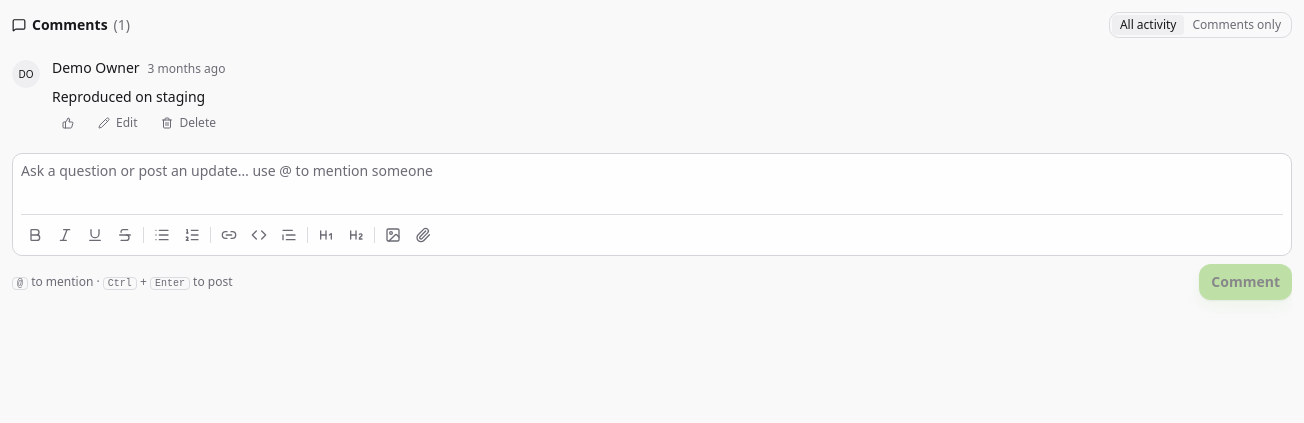
Test: CommentThread › abandons an edit without sending it
The width and height of the screenshot is (1304, 423).
Click the button "Edit".
click(118, 123)  # box x1=88 y1=113 x2=148 y2=133
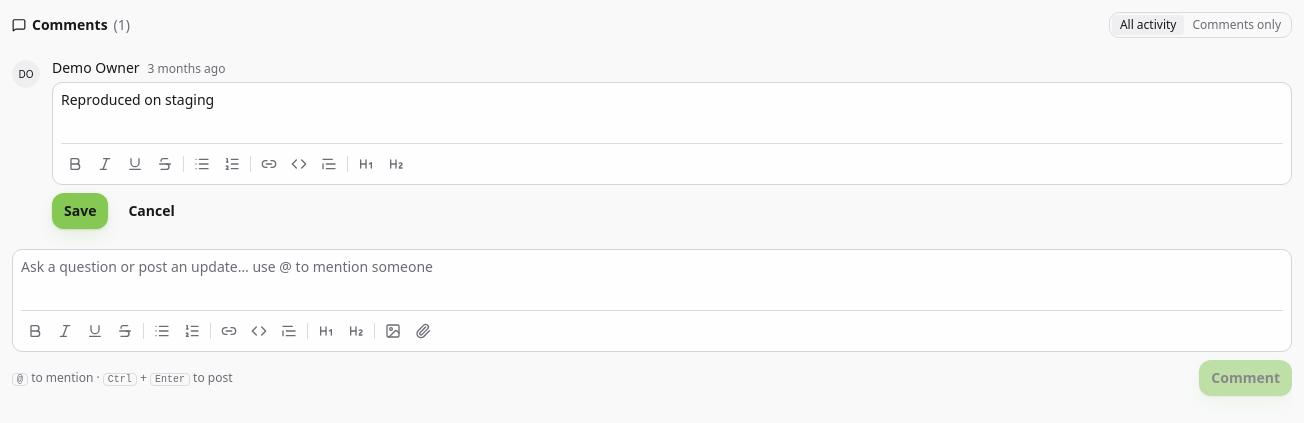
Clear the field named "edit comment" at (138, 100), box x1=61 y1=90 x2=214 y2=109
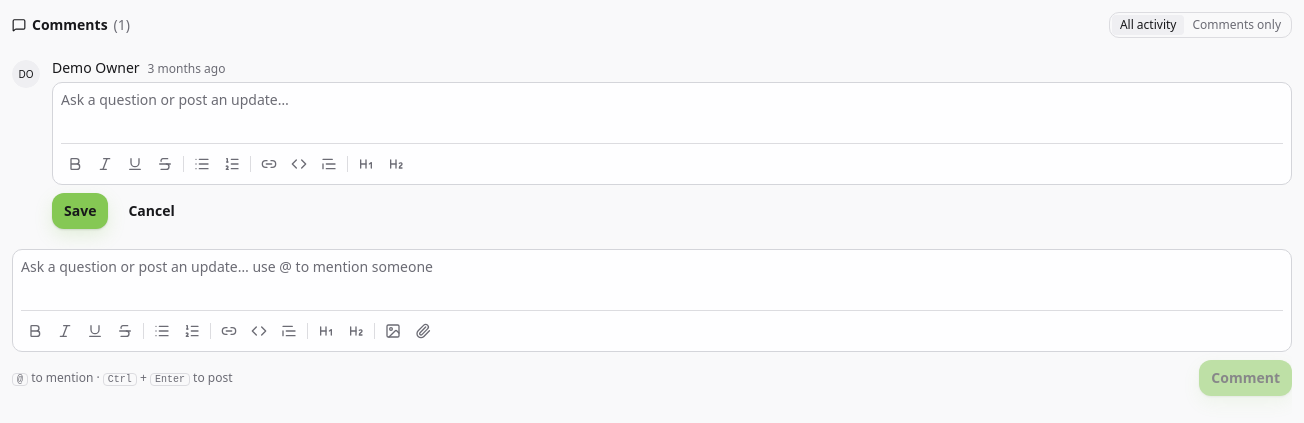
Type "Discard me" into the field named "edit comment".
click(672, 113); type("Discard me")  # box x1=61 y1=89 x2=1283 y2=137
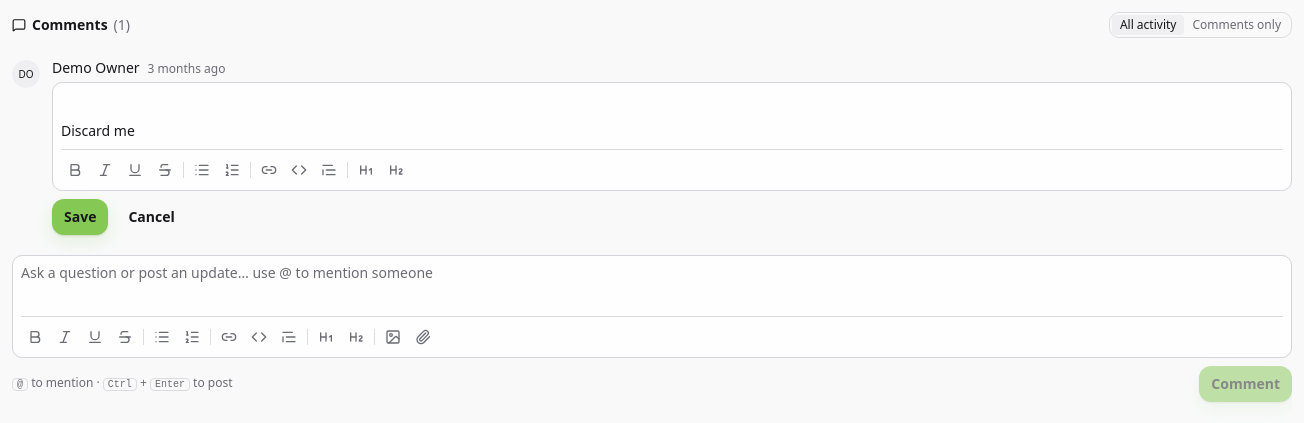
Click the button "Cancel".
click(152, 216)  # box x1=116 y1=198 x2=187 y2=234
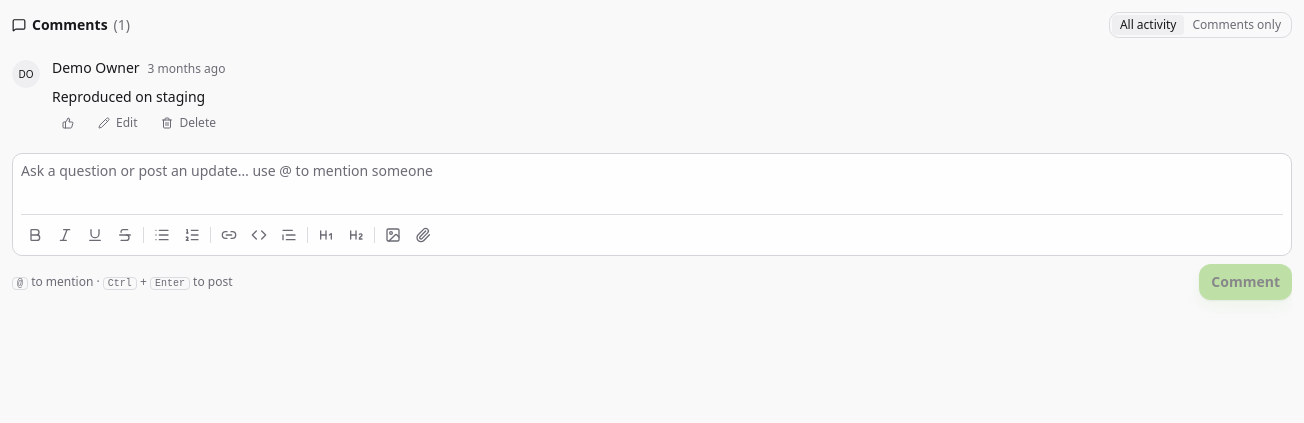
Expected: the text "Reproduced on staging" is shown, x1=52 y1=87 x2=205 y2=106
